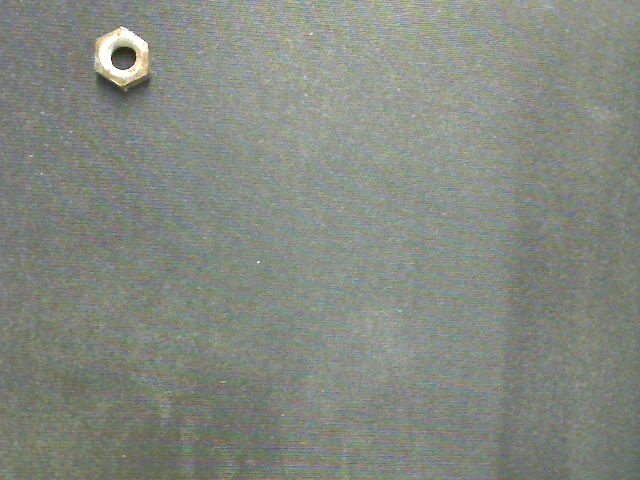Nut: (93, 25, 153, 92)
